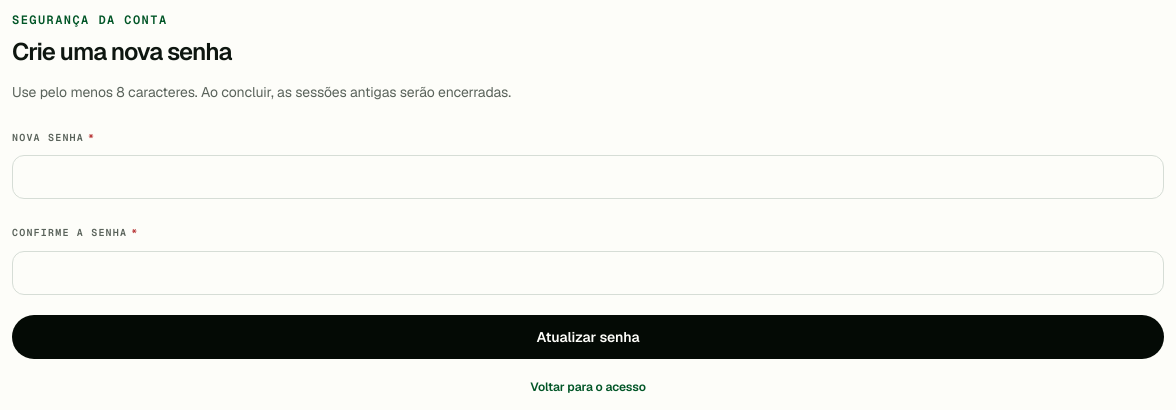
Test: ResetPasswordForm › resets the password with the email token and confirms session revocation
In the password field labelled "Nova senha*": (588, 177) x1=12 y1=155 x2=1164 y2=199, type "new-password-123"
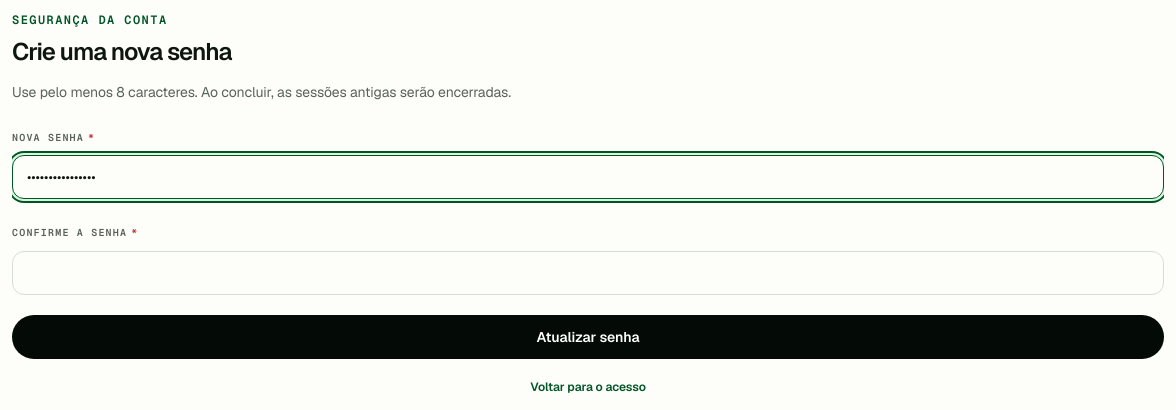
In the password field labelled "Confirme a senha*": (588, 272) x1=12 y1=250 x2=1164 y2=294, type "new-password-123"
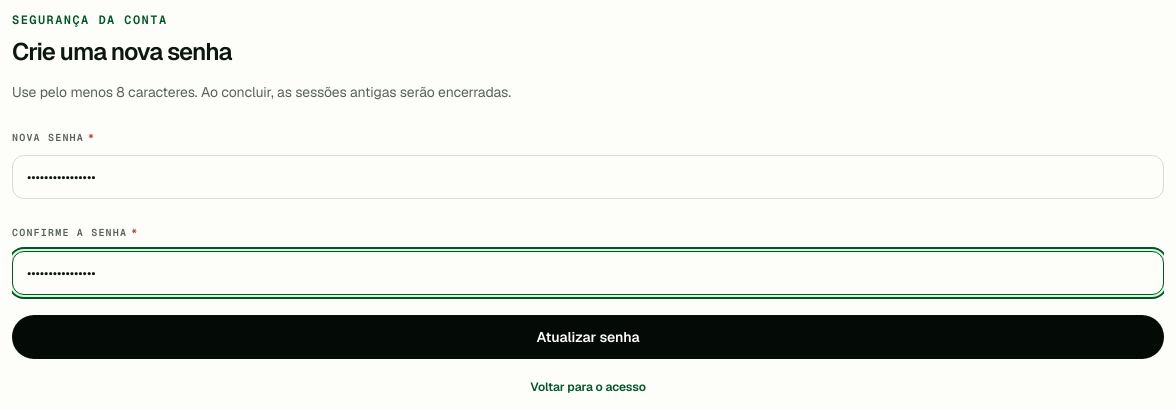
Click the button "Atualizar senha": click(588, 336) x1=12 y1=314 x2=1164 y2=358
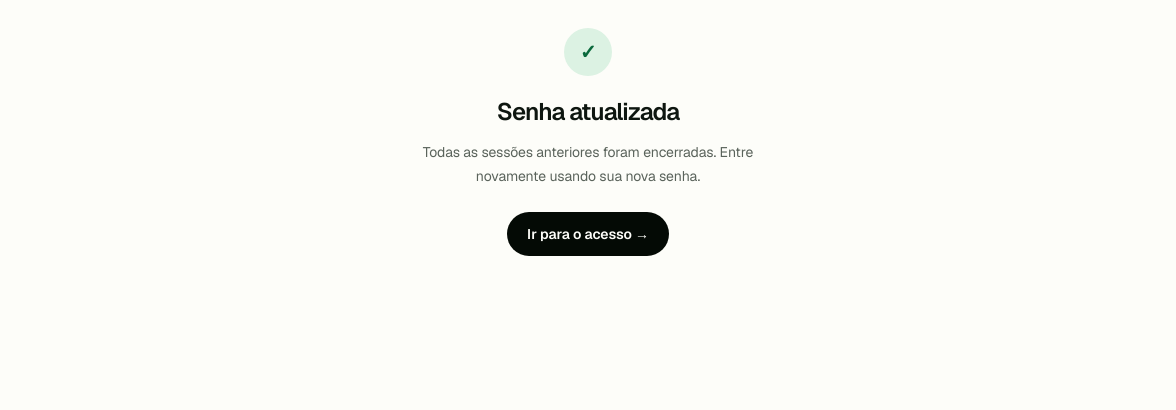
Expected: the message shows "Senha atualizada", x1=497 y1=96 x2=679 y2=127
Expected: the text "sessões anteriores foram encerradas" is shown, x1=423 y1=143 x2=753 y2=185
